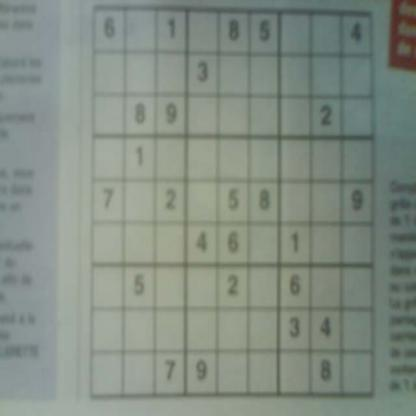sudoku: (86, 1, 379, 406)
